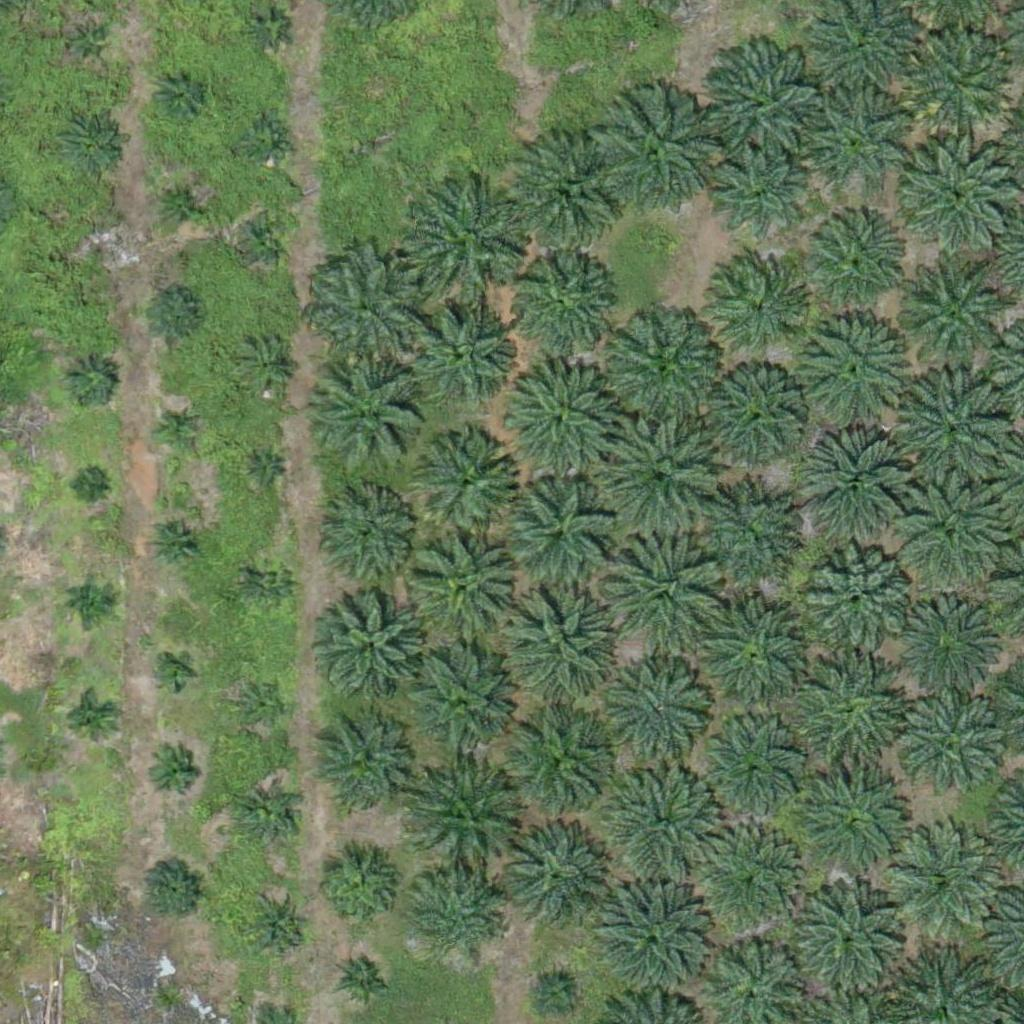Kelapa_Sawit: (697, 41, 822, 167), (591, 94, 716, 220), (408, 179, 533, 305), (598, 412, 723, 538), (600, 302, 725, 428), (786, 653, 911, 779), (796, 763, 921, 889), (495, 580, 620, 706), (602, 528, 727, 654), (781, 871, 906, 997), (510, 133, 623, 247), (610, 765, 723, 879), (904, 135, 1017, 248), (901, 262, 1014, 375), (895, 375, 1008, 488), (794, 309, 907, 422), (894, 483, 1007, 596), (500, 360, 613, 473), (499, 477, 612, 590), (888, 586, 1001, 699), (496, 821, 609, 934), (688, 821, 801, 934), (795, 431, 907, 545), (502, 709, 614, 823), (410, 765, 522, 879), (406, 649, 518, 763), (409, 532, 521, 646), (888, 821, 1000, 935), (309, 252, 421, 365), (318, 358, 430, 471), (897, 695, 1009, 808), (803, 544, 915, 657), (698, 598, 810, 711), (598, 887, 710, 1000), (908, 30, 1008, 131), (806, 90, 906, 191), (802, 211, 902, 312), (708, 143, 808, 244), (411, 302, 511, 403), (417, 430, 517, 531), (701, 726, 801, 827), (613, 666, 713, 767), (706, 258, 806, 358), (704, 367, 804, 467), (689, 490, 789, 590), (510, 251, 610, 351), (322, 596, 422, 696), (310, 722, 410, 822), (312, 845, 399, 933), (327, 492, 414, 580), (412, 872, 499, 960), (247, 897, 310, 960), (142, 856, 205, 919), (142, 284, 205, 347), (241, 787, 303, 850), (60, 115, 122, 178), (335, 949, 397, 1012), (64, 693, 114, 744), (148, 747, 198, 798), (241, 341, 291, 392), (64, 354, 114, 405), (157, 176, 207, 227), (246, 559, 296, 609), (66, 576, 116, 626), (155, 67, 205, 117), (241, 214, 291, 264), (244, 4, 294, 54), (240, 115, 290, 165), (60, 19, 110, 69), (152, 404, 202, 454), (235, 678, 285, 728), (151, 518, 201, 568), (530, 968, 580, 1018), (155, 653, 193, 691), (87, 230, 112, 255), (253, 459, 278, 484), (76, 473, 101, 498)
